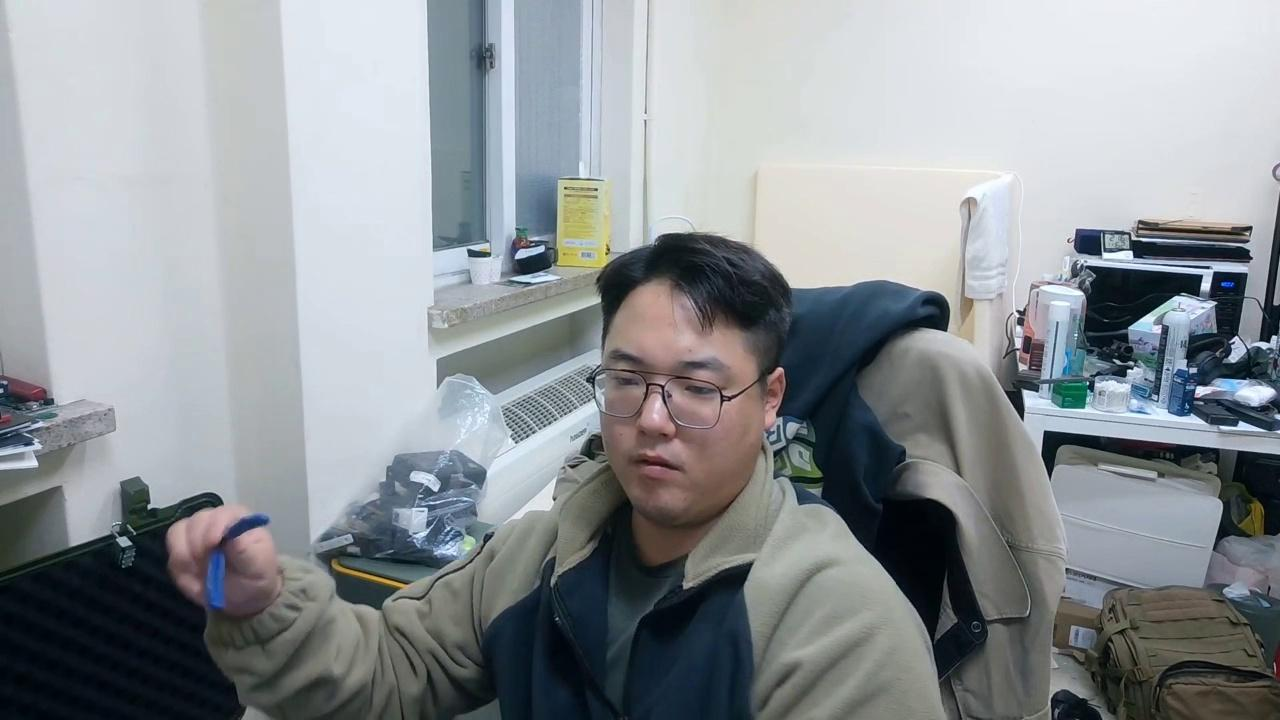blue_pliers: (204, 512, 272, 613)
